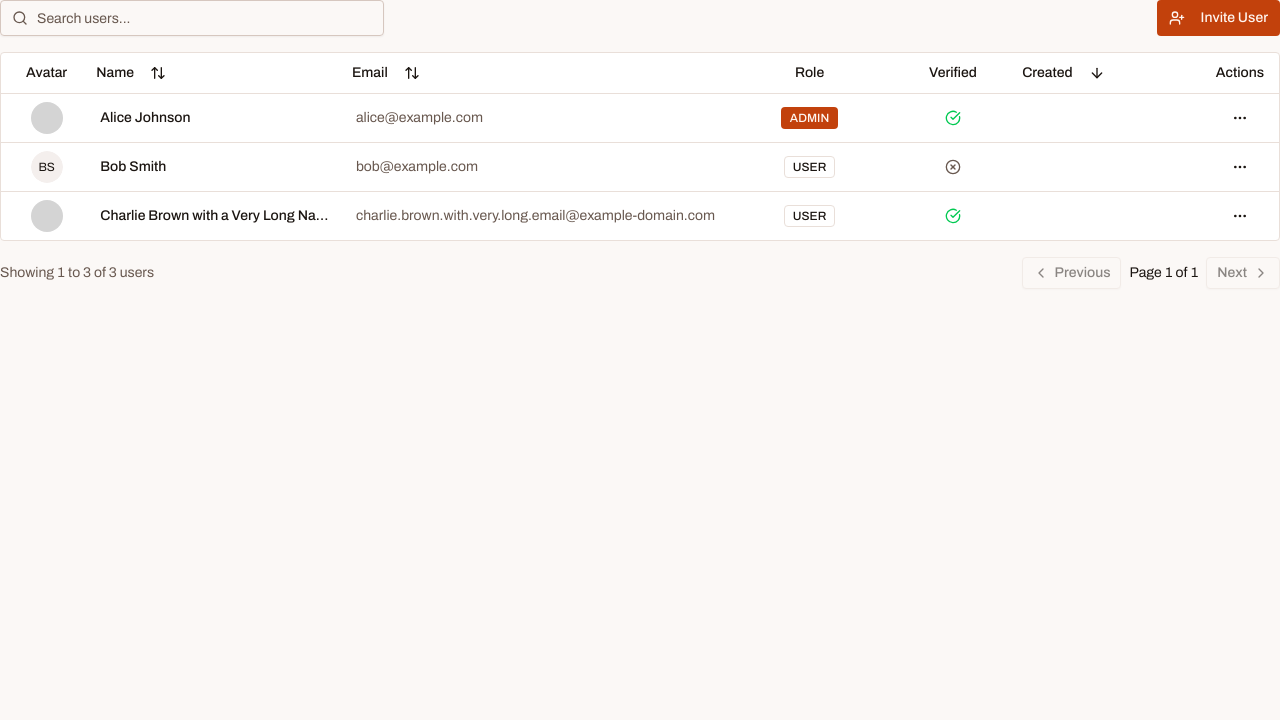
Scenario: components/admin/user-table › user actions › should show cannot-delete message for admin users
Open actions menu for first user (Alice, ADMIN)
Click the button named "open menu" in the row of "Alice Johnson": coordinates (1240, 118) [1224,102,1256,134]
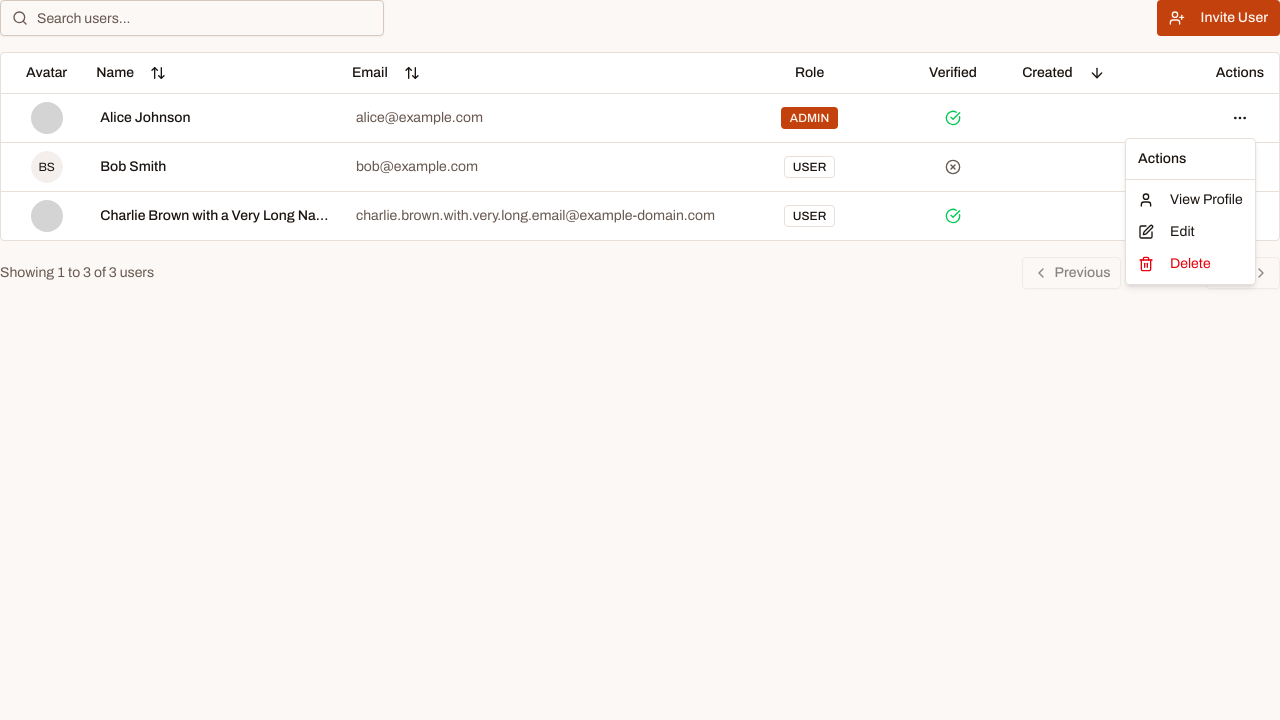
Click delete
Click the menu item "Delete": coordinates (1174, 264) [1138,256,1211,272]
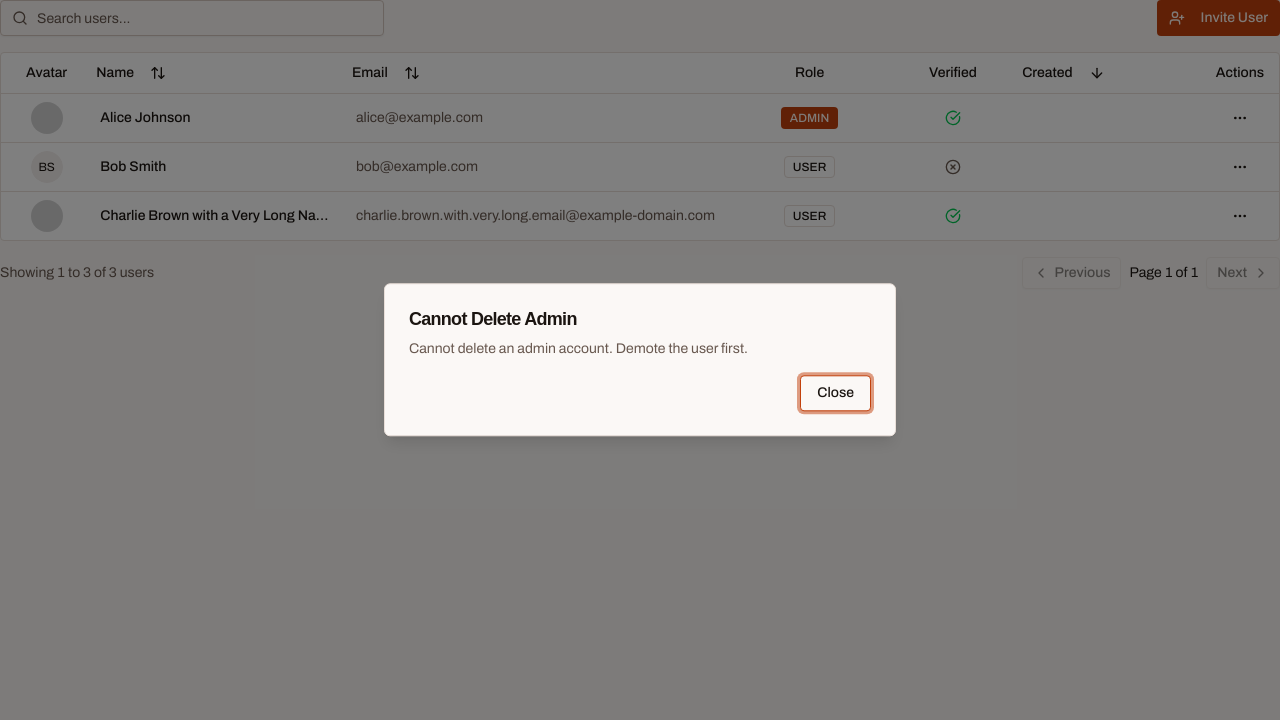
Now the heading "Cannot Delete Admin" is shown, box [409,309,577,329]
Now the text "Cannot delete an admin account. Demote the user first." is shown, box [409,342,748,357]
Now the button "Close" is shown, box [800,376,871,412]
